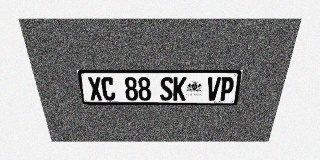8: (124, 77, 138, 101), (138, 77, 151, 101)
C: (101, 77, 116, 101)
K: (173, 77, 187, 101)
P: (219, 77, 235, 101)
S: (160, 77, 173, 101)
V: (206, 77, 221, 101)
X: (87, 77, 103, 101)
